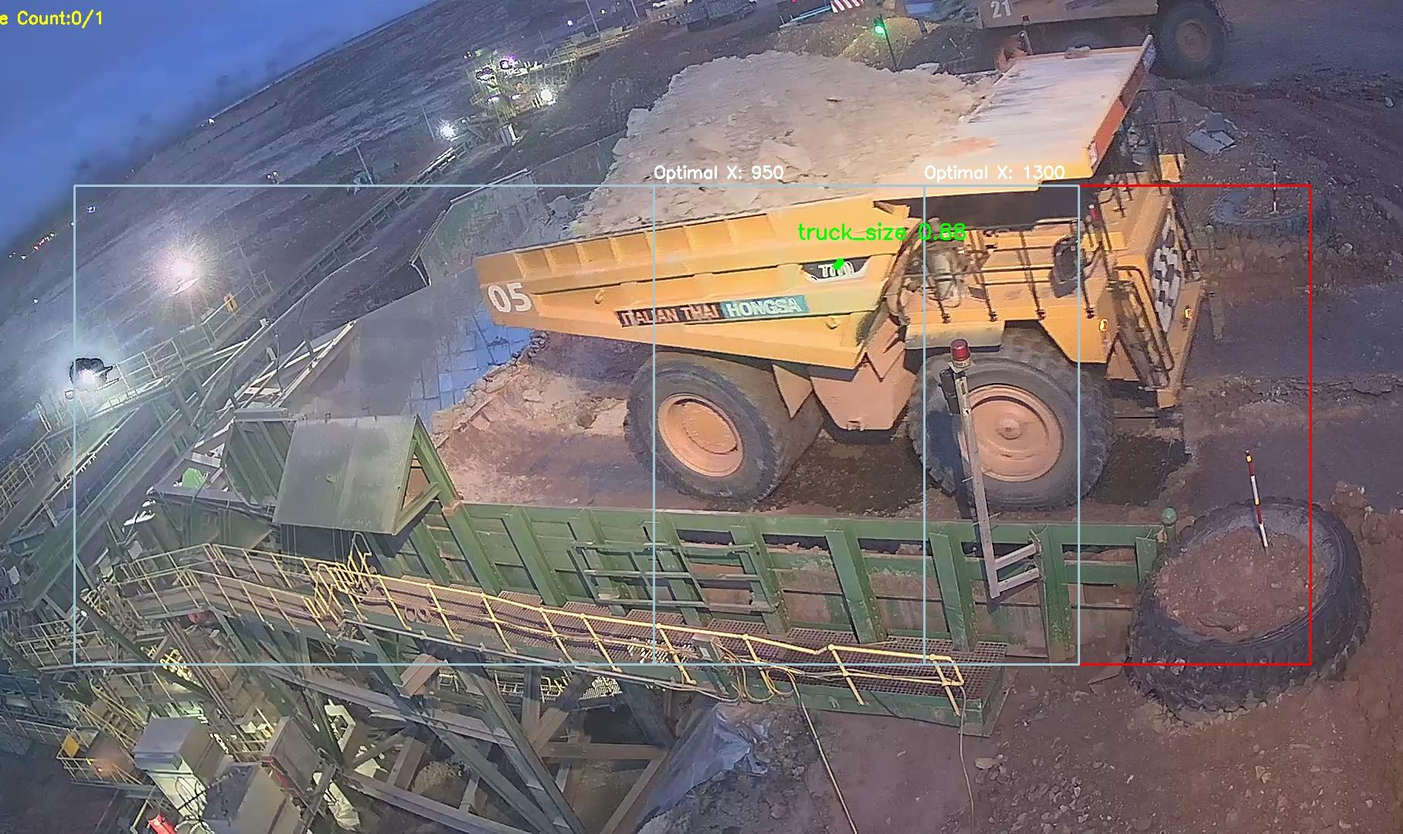company: (617, 282, 823, 331)
full_load: (613, 49, 915, 225)
mining_truck: (461, 35, 1231, 506)
tail_number: (478, 267, 542, 327)
truck_size: (801, 254, 865, 288)
